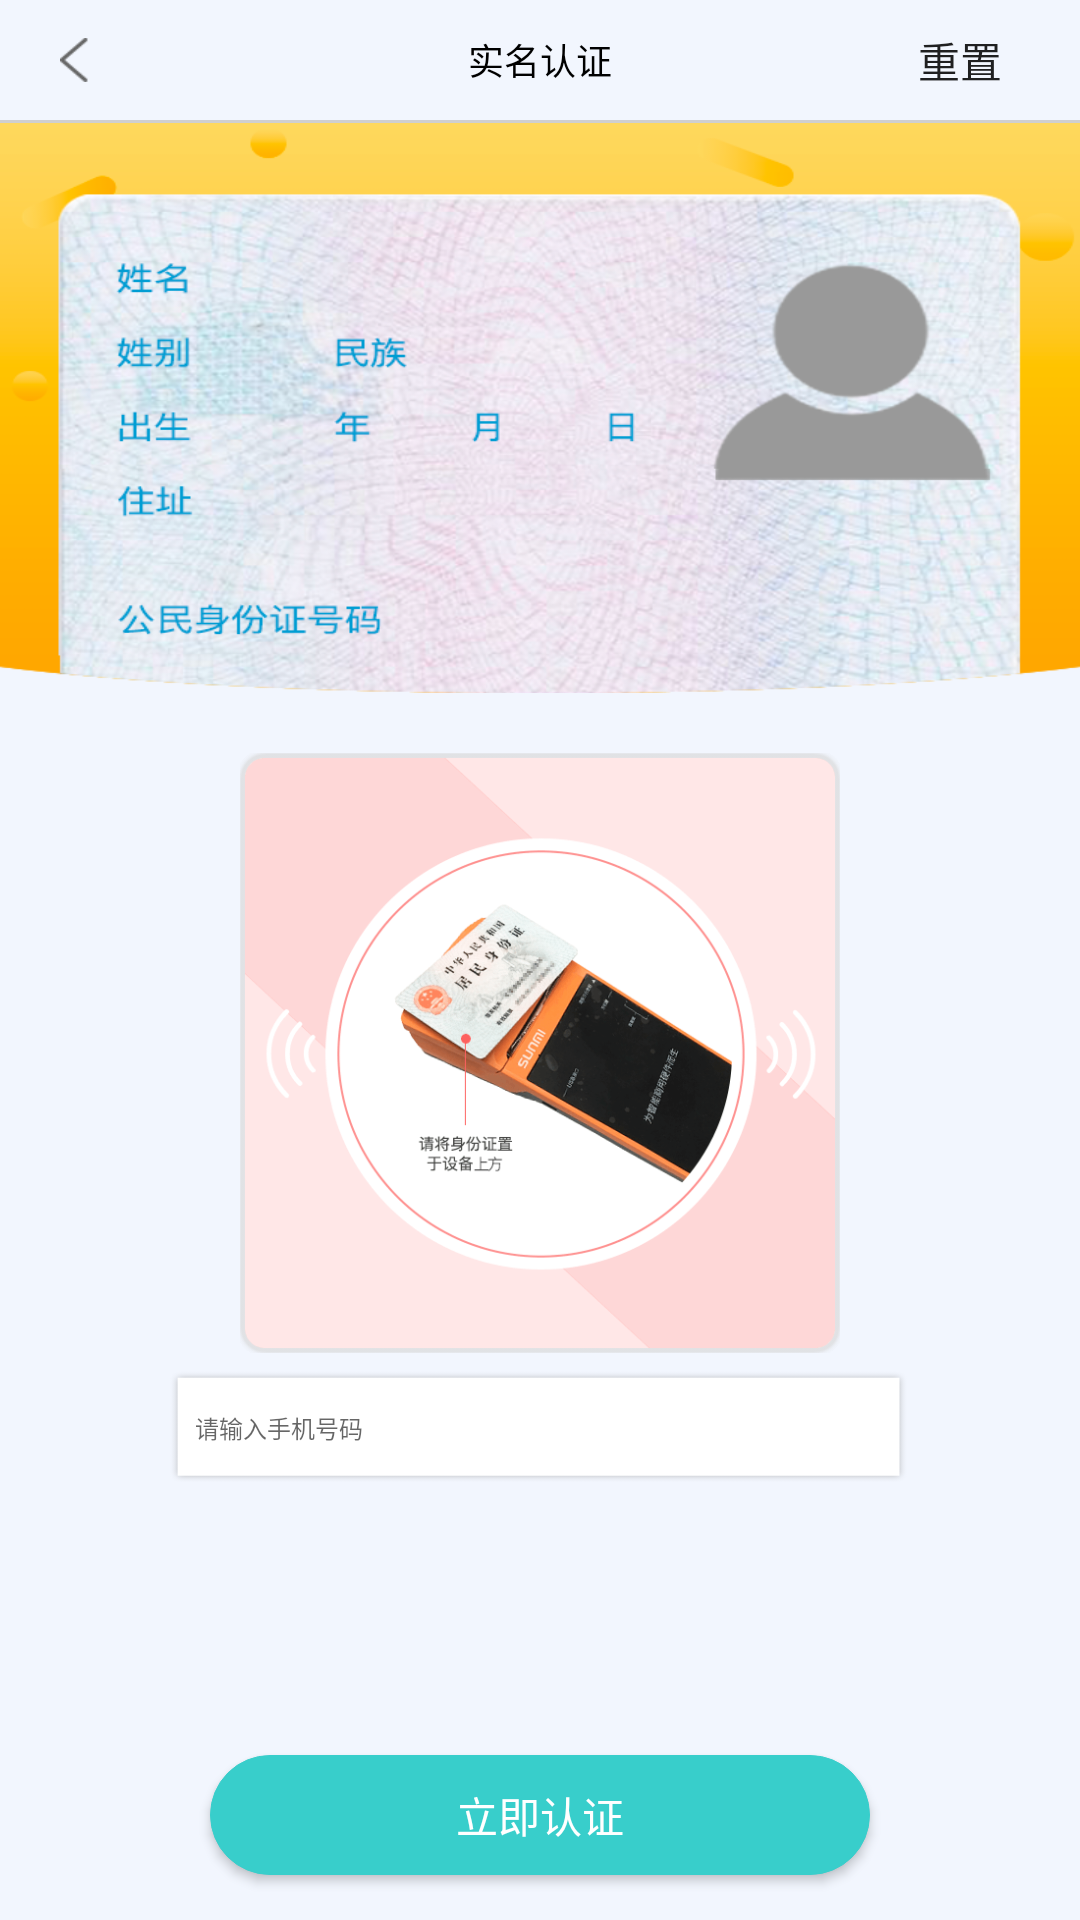

Where to tap for icons on this 1080×1920 app screen, as [x,y]:
prosale back: [74,60]
